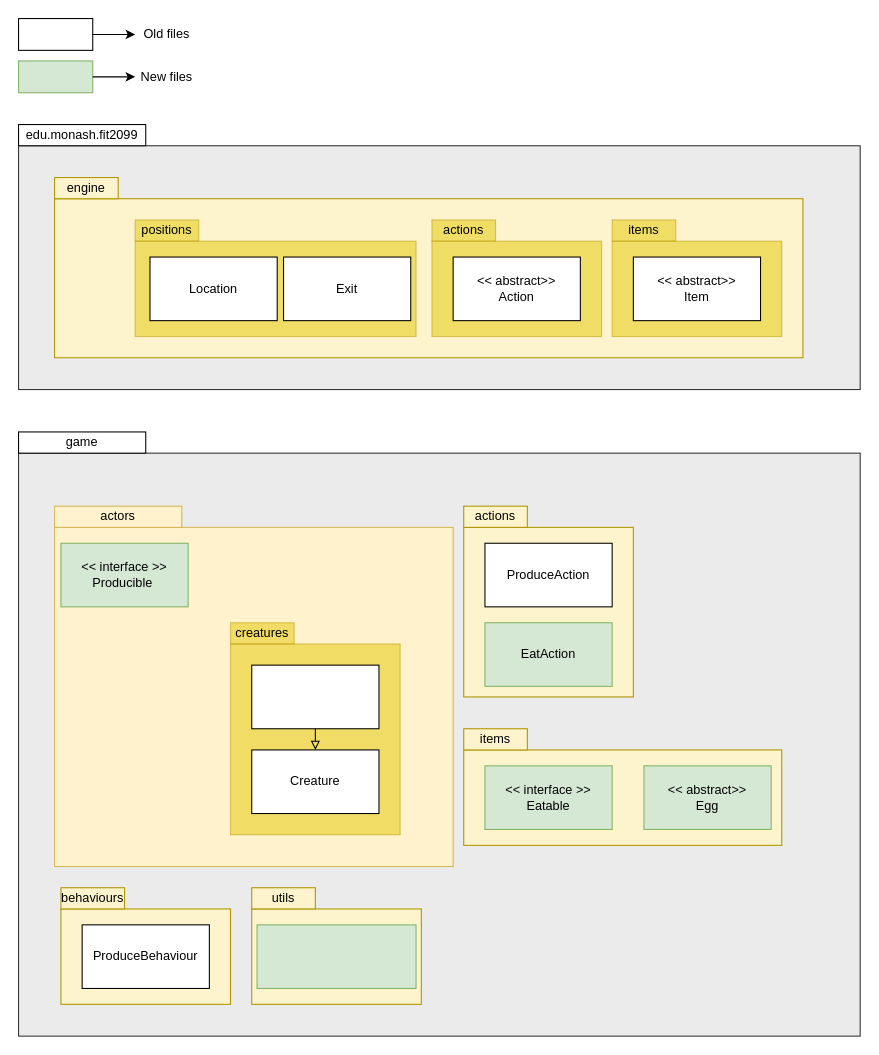
This 879x1055 diagram has some shape labels left out. The centre of each missing label's shape, as x and y in pixels:
"AdjacentCapabilityChecker" belongs at (336,956).
"SpiritGoat" belongs at (315,696).
